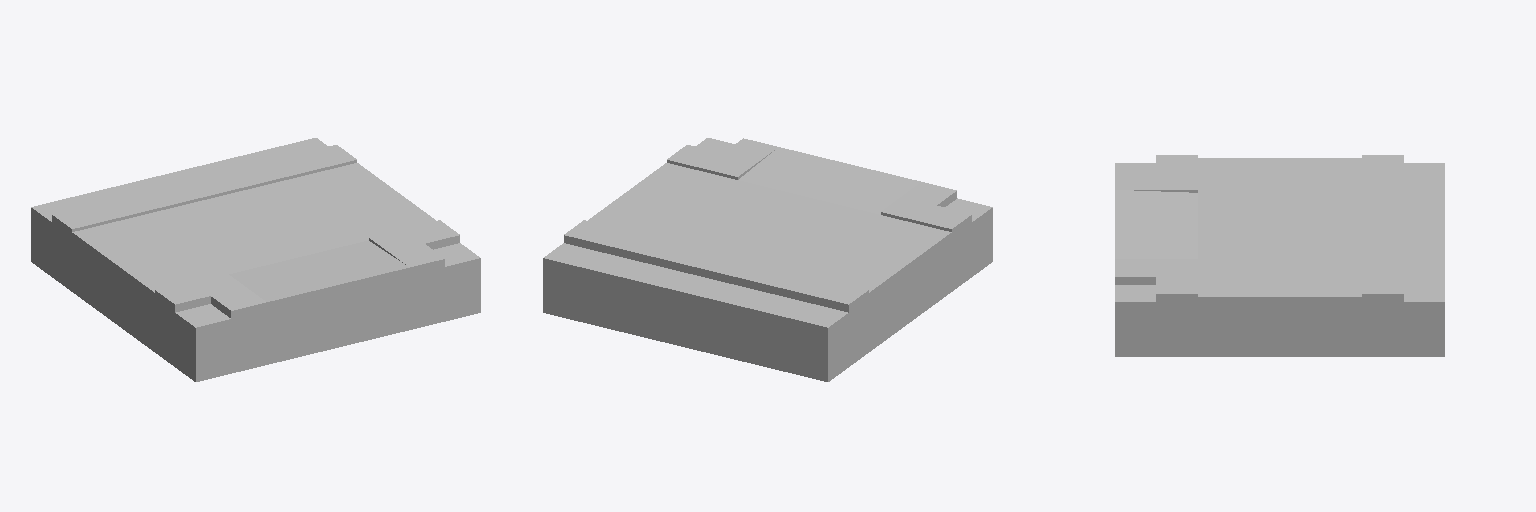
Rendered from tile074.obj.
3 views of the same model, side by side, from view 1: azimuth 30°, elevation 25°; view 2: azimuth 150°, elevation 25°; view 3: azimuth 270°, elevation 25° (orthographic).
Visible parts, largest first — view 1: tile074; view 2: tile074; view 3: tile074.
Boxes of the visible parts, x1=… form: tile074: x1=31, y1=138, x2=480, y2=381; tile074: x1=543, y1=138, x2=992, y2=381; tile074: x1=1115, y1=155, x2=1444, y2=356.
Bounding box in the file's own units: 1 × 0.21 × 1.